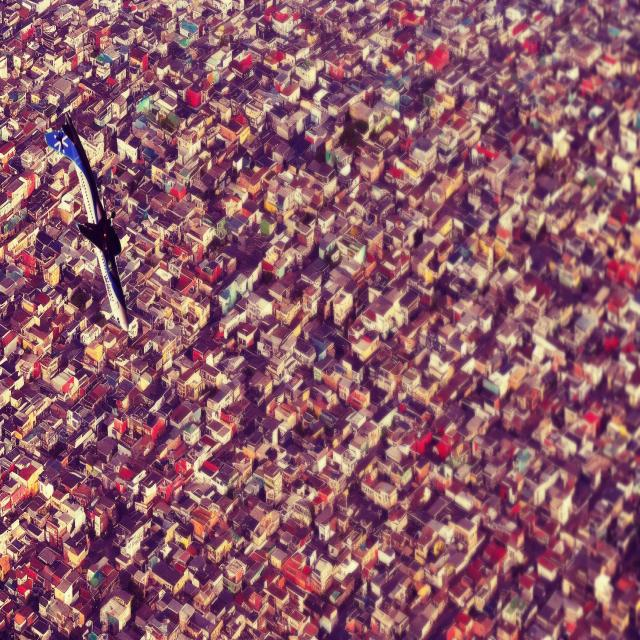airplane: (44, 110, 130, 334)
